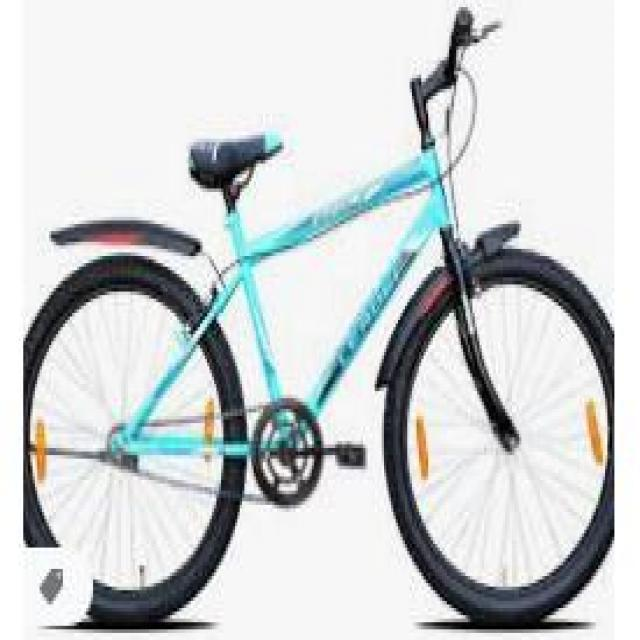bicycle: (19, 75, 617, 640)
